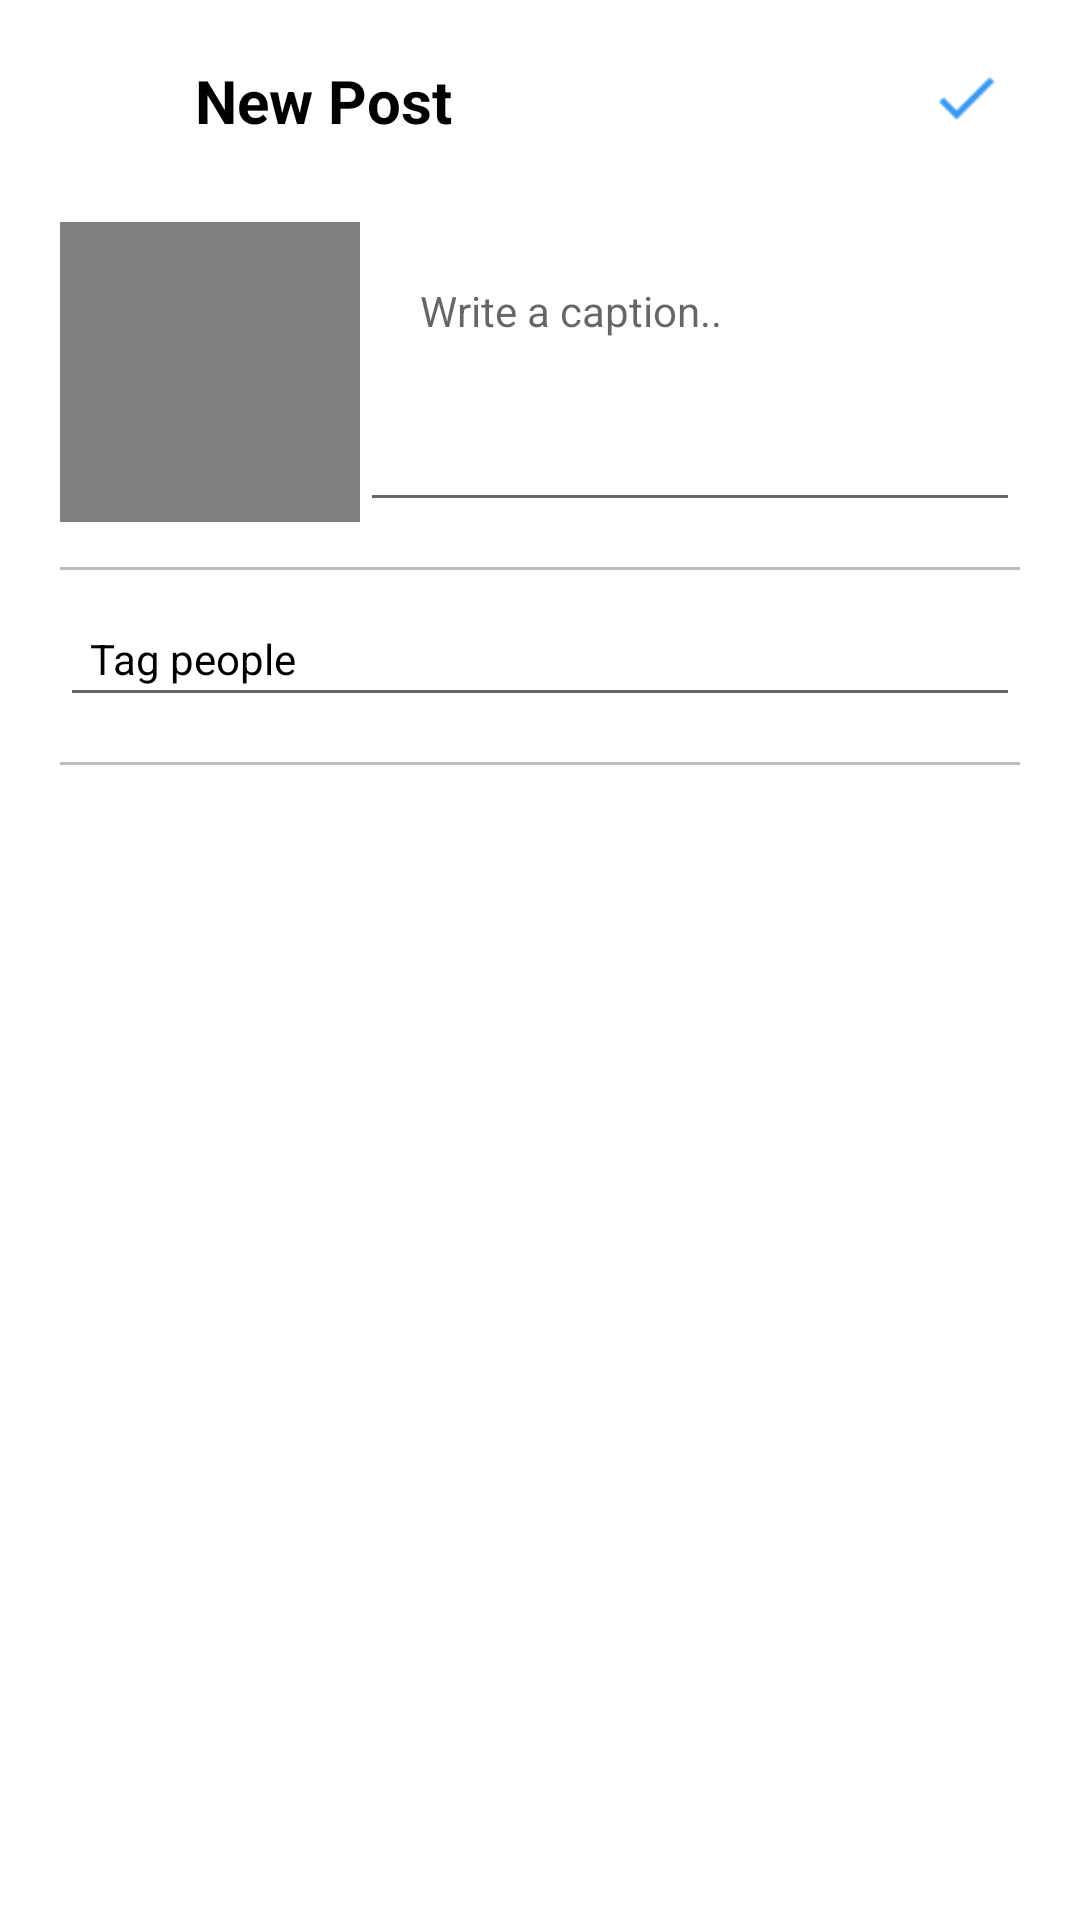

Locate icon controls on the screen. Image size 1080x1920, boxes as box(x1, y1, x2, y2).
check: box(938, 77, 995, 120)
